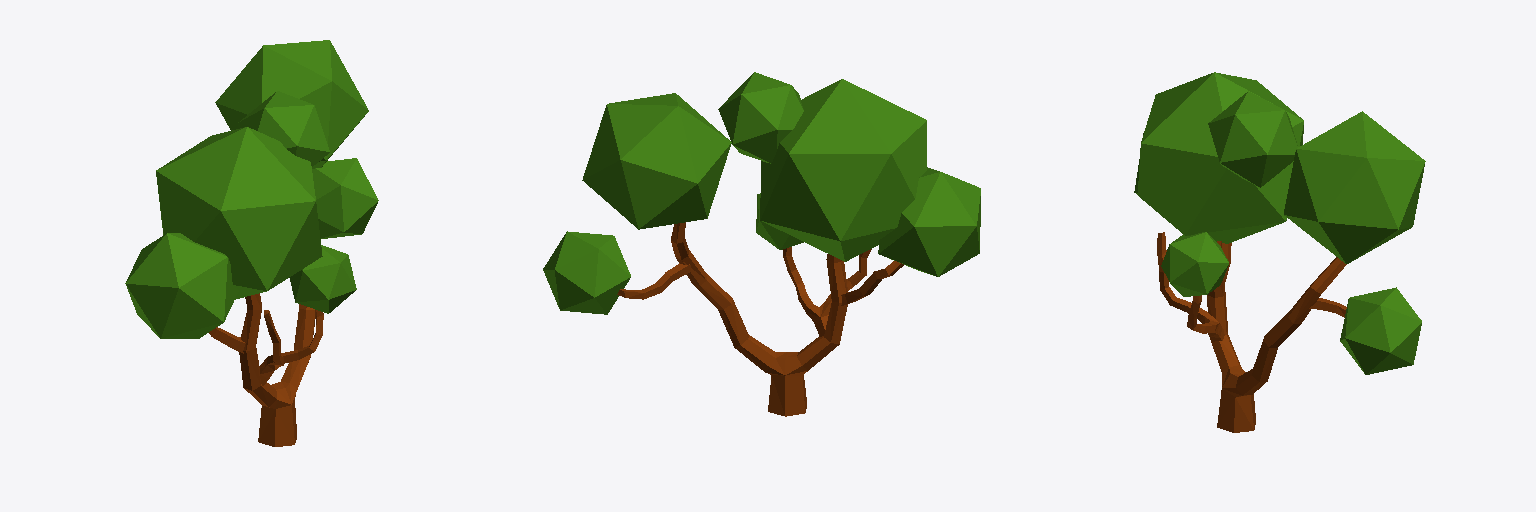
Rendered from arbol2.obj.
3 views of the same model, side by side, from view 1: azimuth 30°, elevation 25°; view 2: azimuth 150°, elevation 25°; view 3: azimuth 270°, elevation 25° (orthographic).
Parts seen in each view (by area): view 1: Tree_lp_11; view 2: Tree_lp_11; view 3: Tree_lp_11.
Part boxes in pixels (left/top/right/bottom): Tree_lp_11: left=125, top=40, right=378, bottom=446; Tree_lp_11: left=543, top=72, right=980, bottom=416; Tree_lp_11: left=1134, top=72, right=1425, bottom=432.
Size of the model in its own units: 27.98 by 26.54 by 20.8.